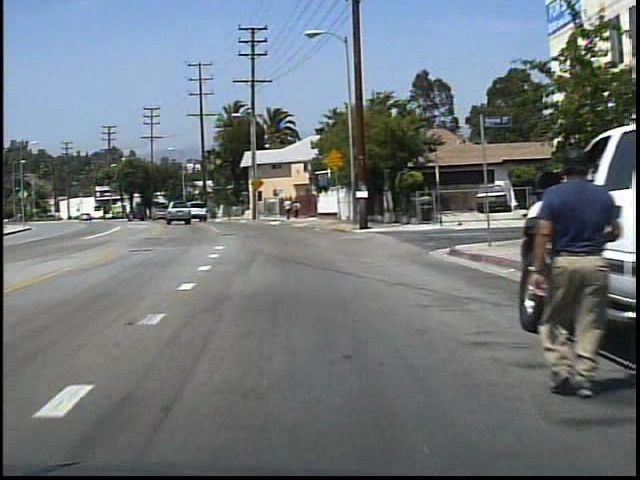person: (519, 147, 597, 391), (282, 197, 293, 221), (291, 199, 301, 221)
